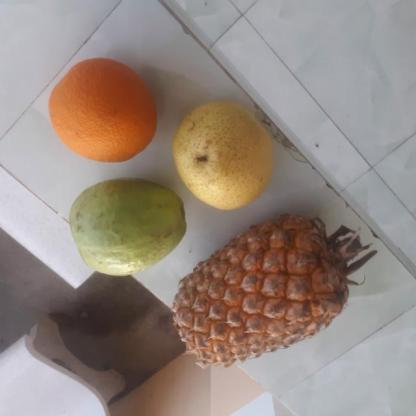guava: (72, 179, 191, 273)
orange: (49, 59, 164, 168)
pear: (173, 101, 281, 209)
pineapple: (181, 214, 356, 362)
